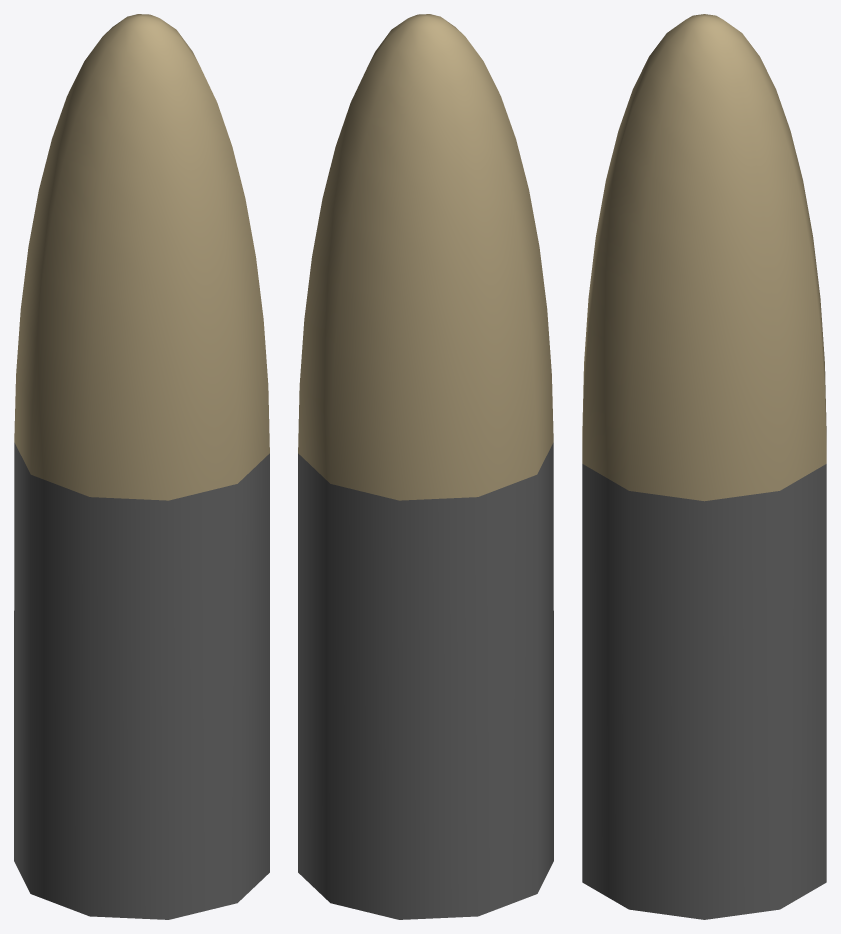
File: rifle_bullet_asset.fbx
3 renders of one model, left to right at view 1: azimuth 30°, elevation 25°; view 2: azimuth 150°, elevation 25°; view 3: azimuth 270°, elevation 25°, orthographic.
Visible parts, largest first — view 1: rifle_bullet; view 2: rifle_bullet; view 3: rifle_bullet.
Part boxes in pixels (x1,y1,x2,y2): rifle_bullet: (14, 14, 269, 919); rifle_bullet: (298, 14, 553, 919); rifle_bullet: (582, 14, 826, 919).
Bounding box in the file's own units: 0.5165 × 1.88 × 0.4912.
